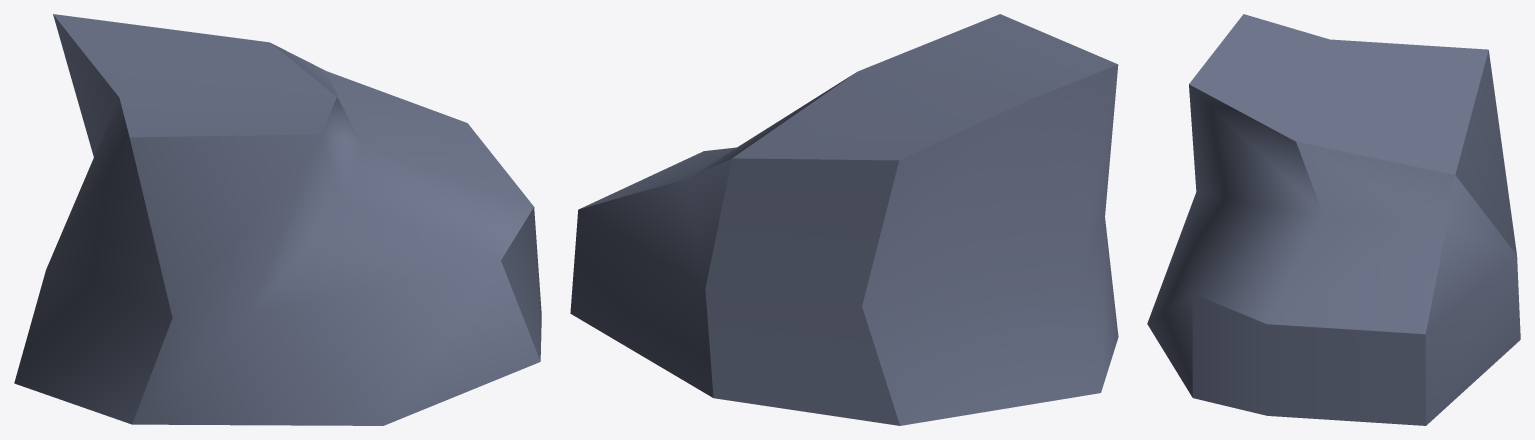
Rendered from Rock1.fbx.
The picture shows the model from 3 angles, left to right: view 1: azimuth 30°, elevation 25°; view 2: azimuth 150°, elevation 25°; view 3: azimuth 270°, elevation 25°; orthographic projection. The views are drawn at different scales.
Parts seen in each view (by area): view 1: RockV2; view 2: RockV2; view 3: RockV2.
Boxes of the visible parts, x1,y1,x2,y2 form: RockV2: (14,14,541,425); RockV2: (570,14,1118,425); RockV2: (1147,14,1520,425).
Size of the model in its own units: 232 by 184 by 128.
